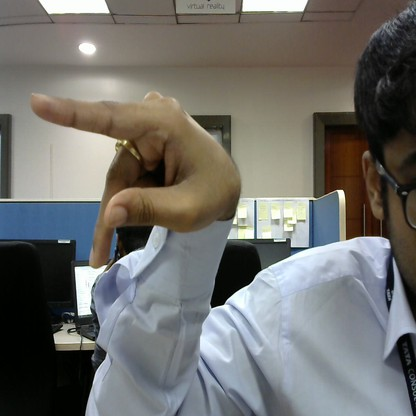p: (25, 73, 249, 271)
